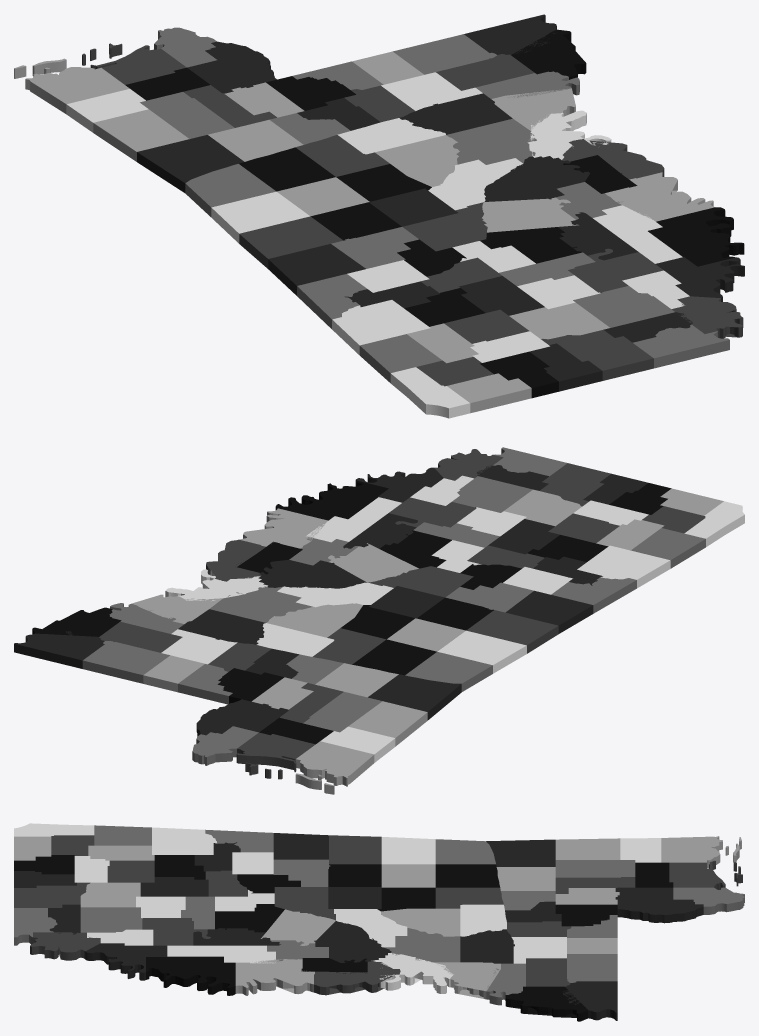
Rendered from Mississippi_Counties_3D.fbx.
3 renders of one model, top to bottom at view 1: azimuth 30°, elevation 25°; view 2: azimuth 150°, elevation 25°; view 3: azimuth 270°, elevation 25°, orthographic. The views are drawn at different scales.
Parts seen in each view (by area): view 1: MS_Bolivar_County_3D, MS_Jackson_County_3D, MS_Wayne_County_3D, MS_Yazoo_County_3D, MS_Marshall_County_3D, MS_Monroe_County_3D, MS_Hinds_County_3D, MS_Washington_County_3D, MS_Pearl_River_County_3D, MS_Kemper_County_3D, MS_Greene_County_3D, MS_Lauderdale_County_3D (+70 smaller); view 2: MS_Jackson_County_3D, MS_Bolivar_County_3D, MS_Wayne_County_3D, MS_Yazoo_County_3D, MS_Amite_County_3D, MS_Harrison_County_3D, MS_Monroe_County_3D, MS_Wilkinson_County_3D, MS_Kemper_County_3D, MS_Washington_County_3D, MS_Pearl_River_County_3D, MS_Hinds_County_3D (+70 smaller); view 3: MS_Bolivar_County_3D, MS_Pearl_River_County_3D, MS_Washington_County_3D, MS_Adams_County_3D, MS_Yazoo_County_3D, MS_Warren_County_3D, MS_Hinds_County_3D, MS_Issaquena_County_3D, MS_Coahoma_County_3D, MS_Jackson_County_3D, MS_Wayne_County_3D, MS_Rankin_County_3D (+70 smaller).
Part boxes in pixels (x1,y1,x2,y2): MS_Bolivar_County_3D: (648, 207, 744, 266); MS_Jackson_County_3D: (14, 58, 129, 113); MS_Wayne_County_3D: (137, 135, 244, 192); MS_Yazoo_County_3D: (484, 156, 589, 201); MS_Marshall_County_3D: (541, 330, 653, 380); MS_Monroe_County_3D: (332, 300, 430, 354); MS_Hinds_County_3D: (446, 118, 536, 164); MS_Washington_County_3D: (605, 172, 714, 221); MS_Pearl_River_County_3D: (187, 41, 276, 93); MS_Kemper_County_3D: (239, 216, 342, 268); MS_Greene_County_3D: (93, 109, 189, 161); MS_Lauderdale_County_3D: (211, 191, 309, 243); MS_Jackson_County_3D: (295, 741, 374, 794); MS_Bolivar_County_3D: (275, 480, 388, 520); MS_Wayne_County_3D: (368, 674, 461, 720); MS_Yazoo_County_3D: (258, 560, 366, 588); MS_Amite_County_3D: (82, 641, 169, 683); MS_Harrison_County_3D: (236, 732, 315, 779); MS_Monroe_County_3D: (577, 545, 670, 588); MS_Wilkinson_County_3D: (14, 631, 104, 668); MS_Kemper_County_3D: (466, 610, 558, 653); MS_Washington_County_3D: (239, 508, 327, 548); MS_Pearl_River_County_3D: (196, 699, 288, 736); MS_Hinds_County_3D: (210, 586, 312, 622); MS_Bolivar_County_3D: (146, 956, 235, 995); MS_Pearl_River_County_3D: (615, 887, 703, 923); MS_Washington_County_3D: (235, 959, 314, 995); MS_Adams_County_3D: (505, 986, 588, 1021); MS_Yazoo_County_3D: (314, 921, 391, 962); MS_Warren_County_3D: (373, 953, 453, 993); MS_Hinds_County_3D: (383, 928, 460, 962); MS_Issaquena_County_3D: (314, 960, 400, 995); MS_Coahoma_County_3D: (85, 943, 167, 980); MS_Jackson_County_3D: (661, 836, 741, 868); MS_Wayne_County_3D: (486, 839, 555, 866); MS_Rankin_County_3D: (381, 908, 460, 936).
Size of the model in its own units: 504 by 10 by 819.
